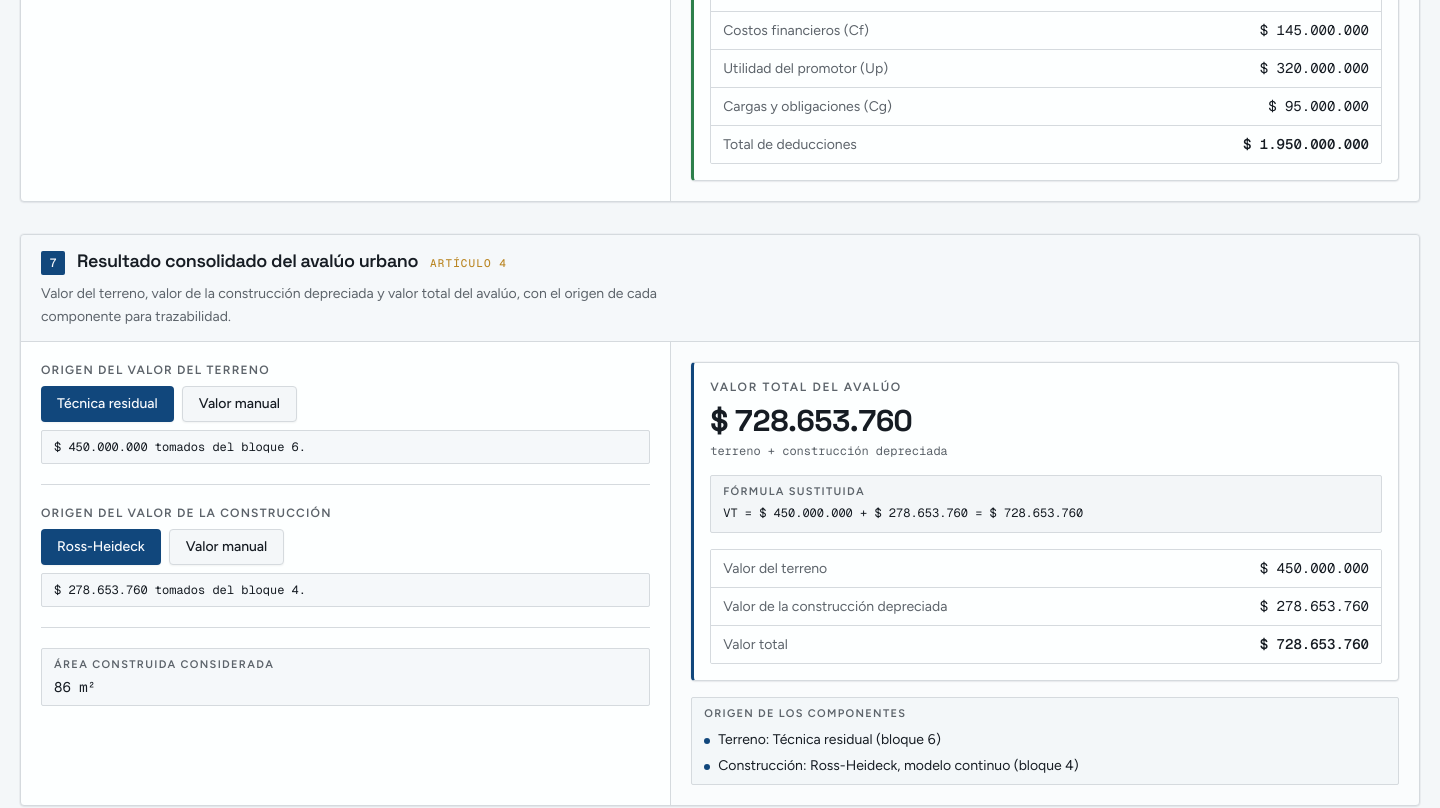
Test: AvaluoUrbanoPage › recalcula el consolidado al cambiar el origen del terreno a manual
(page scrolled)
expect the text "VT = $ 450.000.000 + $ 278.653.760 = $ 728.653.760" is shown: met, box left=723, top=506, right=1083, bottom=520
Click the button with test id "consolidado.toggle.terreno_manual": (239, 404) left=182, top=386, right=297, bottom=422
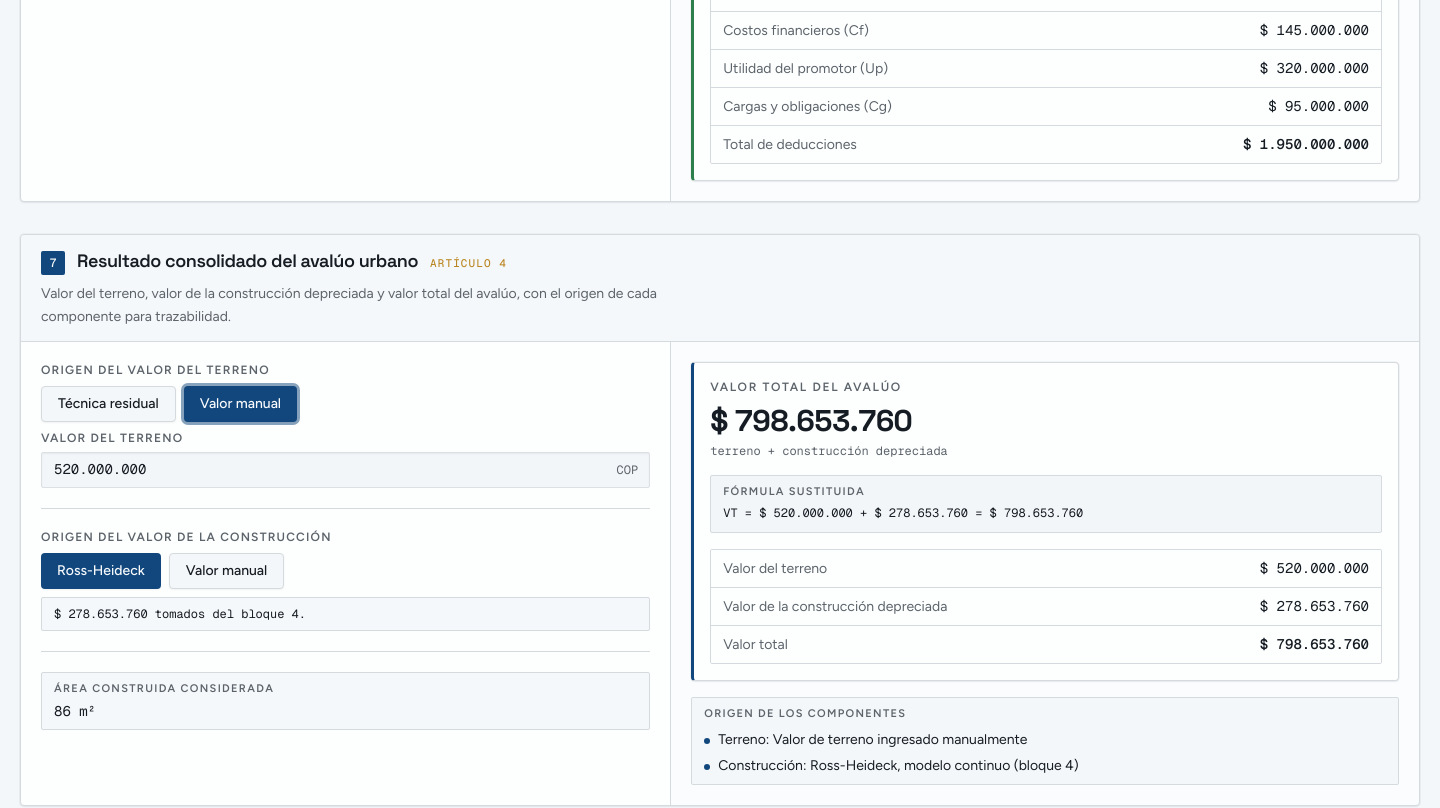
expect the text "VT = $ 520.000.000 + $ 278.653.760 = $ 798.653.760" is shown: met, box left=723, top=506, right=1083, bottom=520
